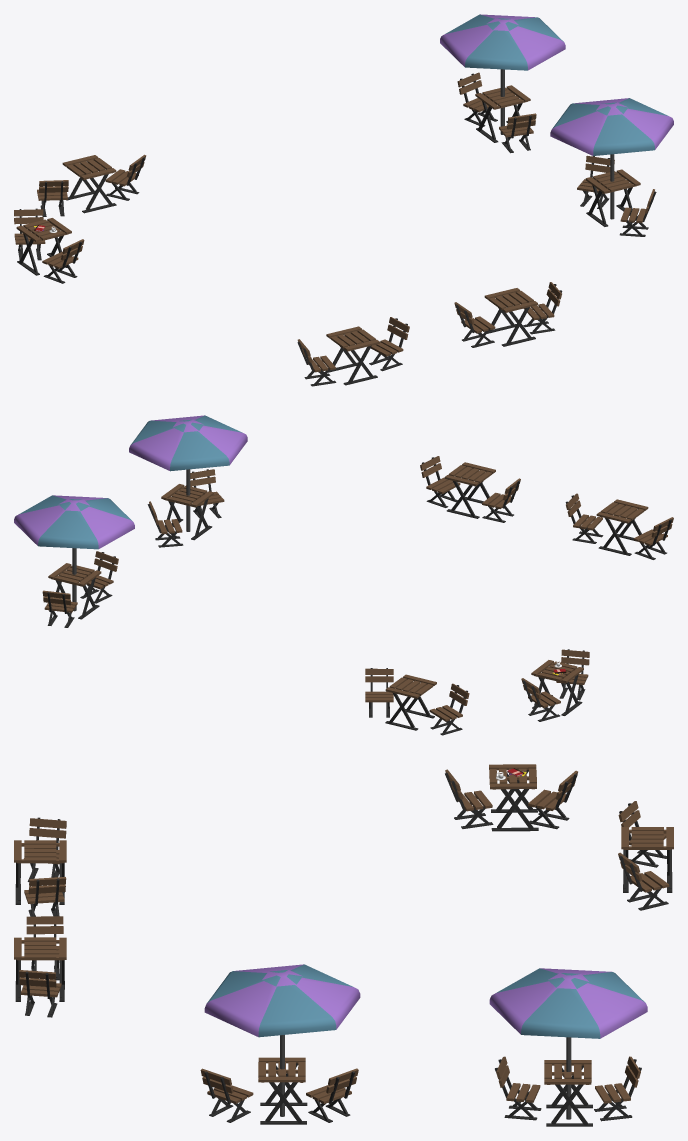
The picture shows the model from 3 angles, top to bottom: view 1: azimuth 30°, elevation 25°; view 2: azimuth 150°, elevation 25°; view 3: azimuth 270°, elevation 25°; orthographic projection. The views are drawn at different scales.
Parts seen in each view (by area): view 1: Deko_2x2 arcade O; view 2: Deko_2x2 arcade O; view 3: Deko_2x2 arcade O.
Boxes of the visible parts, box(x1,y1,x2,y2) form: Deko_2x2 arcade O: box(14, 14, 673, 386); Deko_2x2 arcade O: box(14, 415, 673, 735); Deko_2x2 arcade O: box(14, 764, 673, 1126).
Bounding box in the file's own units: 15.02 × 2.94 × 12.43.
Materials: 2 (2 with a texture image).
